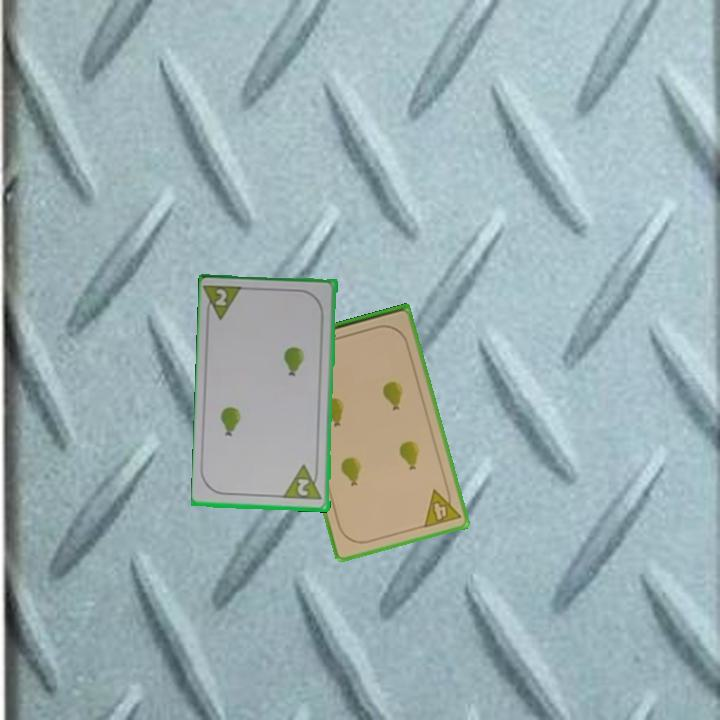2p: (202, 282, 247, 324), (281, 462, 325, 503)
4p: (420, 483, 464, 531)
